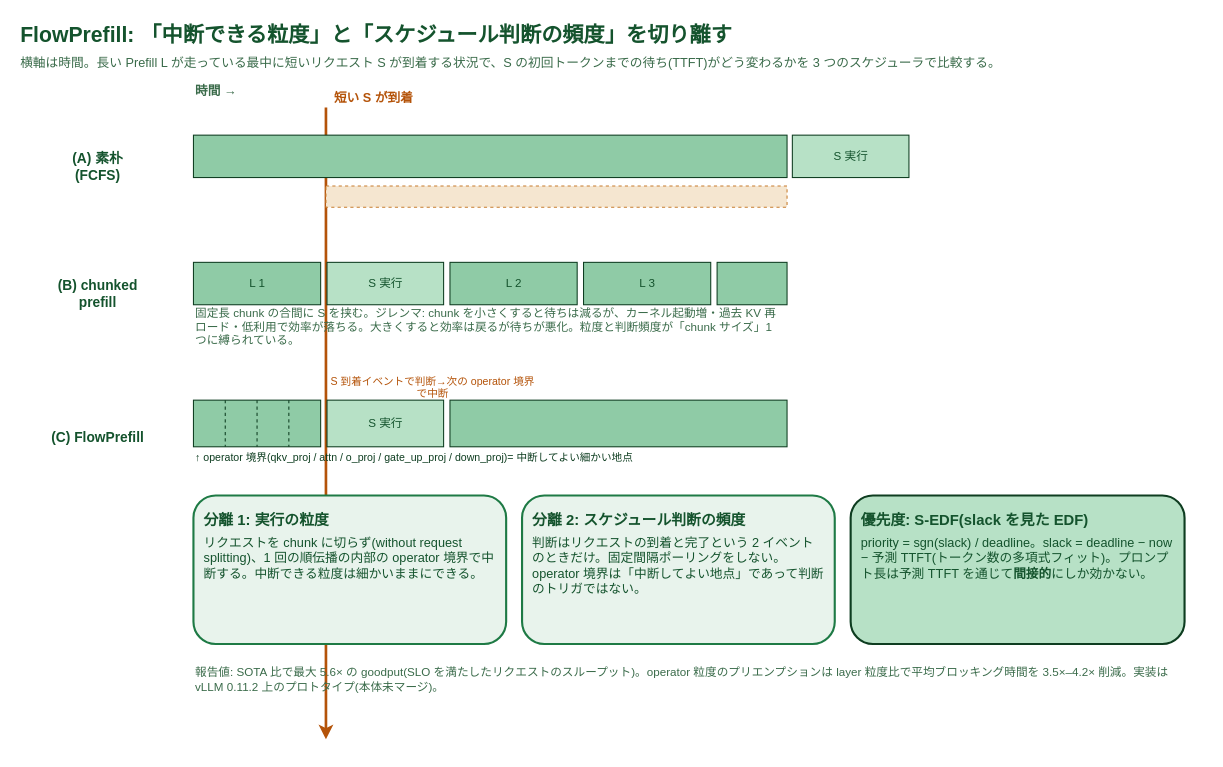
Image size: 1223x767. Some labels were removed from this diagram. The box of each missing label's shape, as (x1, y1, x2, y2) in pixels:
L 4: (716, 261, 787, 305)
L を resume: (449, 399, 787, 447)
L(分割しない・operator 境界で中断可): (192, 399, 321, 447)
S はここまで待たされる = HoL blocking: (325, 185, 787, 207)
長い Prefill L を最後まで実行(中断しない): (192, 134, 787, 178)
